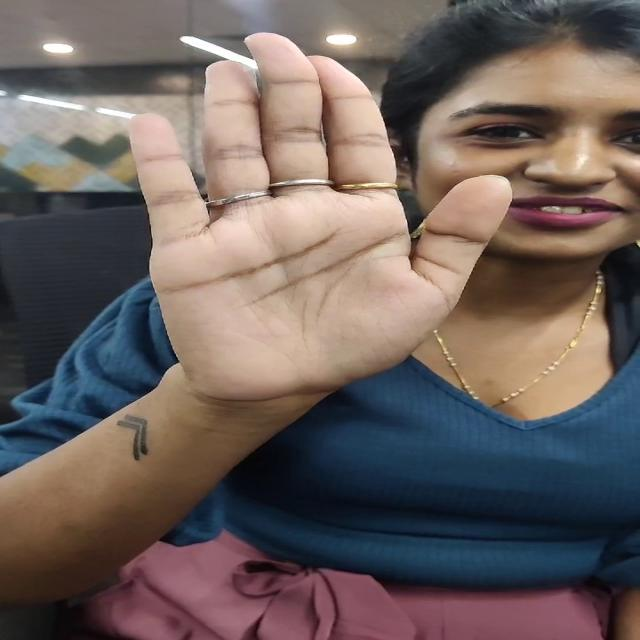no-gloves: (70, 23, 542, 434)
